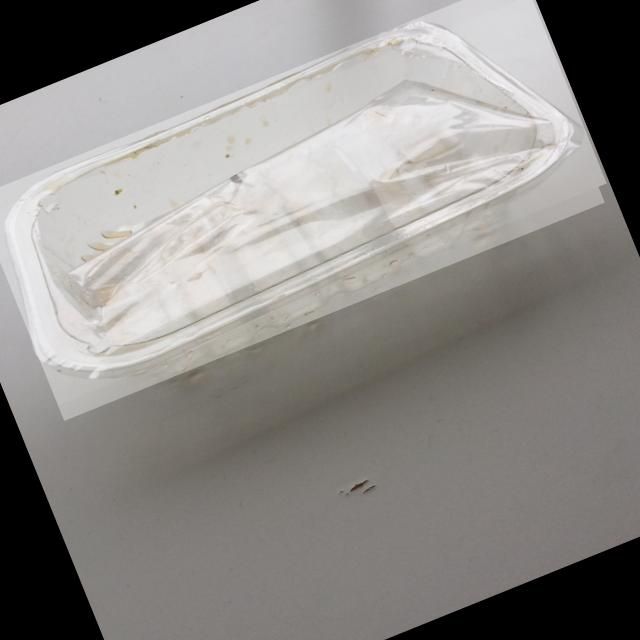Food container: (3, 26, 573, 380)
Plastic film: (8, 80, 584, 380)
